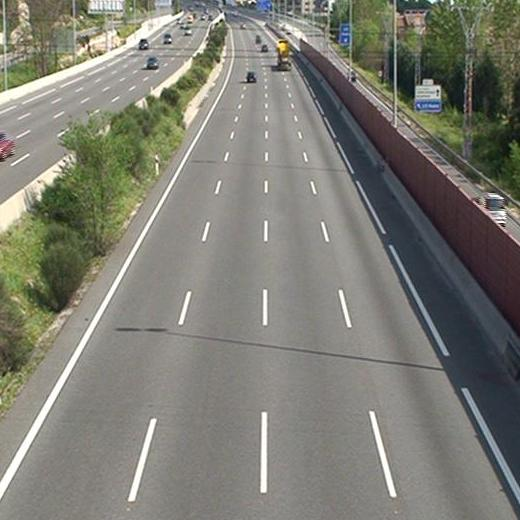car: (245, 69, 258, 83)
truck: (276, 41, 294, 71)
